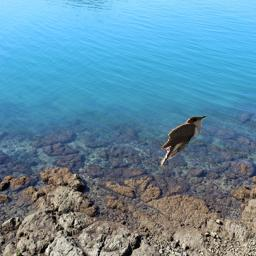Cuckoo: (159, 115, 207, 172)
